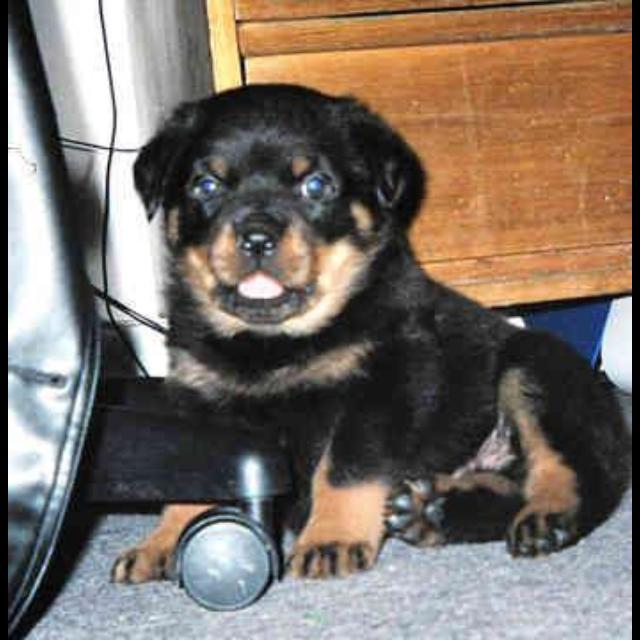rottweiler: (109, 82, 631, 595)
